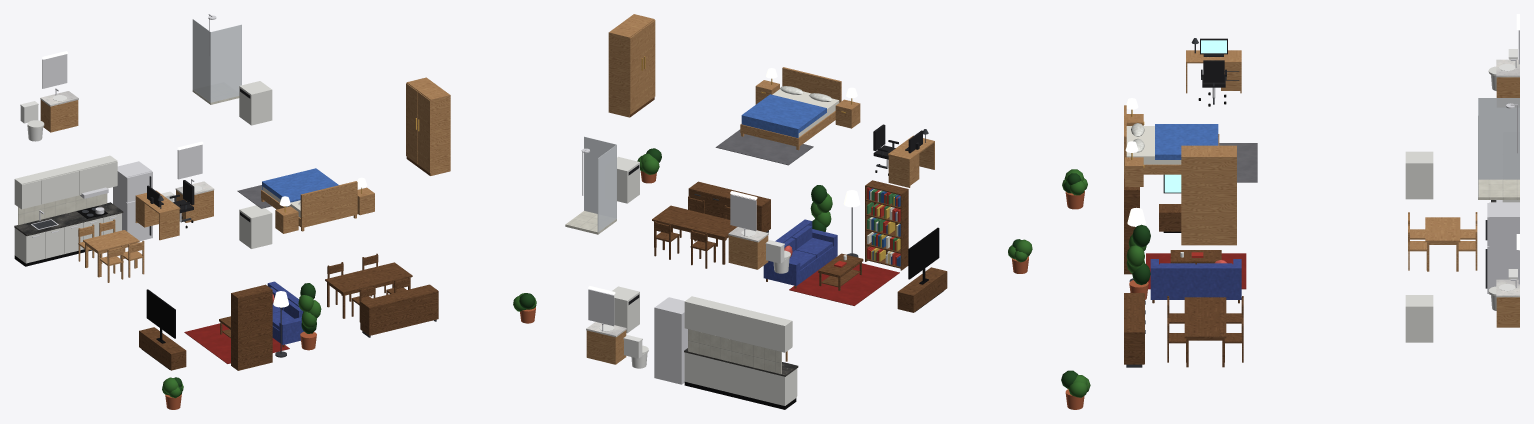
Rendered from i_santorini_house.gltf.
3 renders of one model, left to right at view 1: azimuth 30°, elevation 25°; view 2: azimuth 150°, elevation 25°; view 3: azimuth 270°, elevation 25°, orthographic. The views are drawn at different scales.
Visible parts, largest first — view 1: I_santorini_house; view 2: I_santorini_house; view 3: I_santorini_house.
Boxes of the visible parts, x1,y1,x2,y2 form: I_santorini_house: [14, 14, 536, 409]; I_santorini_house: [565, 14, 1032, 409]; I_santorini_house: [1061, 14, 1519, 409].
Bounding box in the file's own units: 10.74 × 5.5 × 9.87.
Materials: 33 (12 with a texture image).
